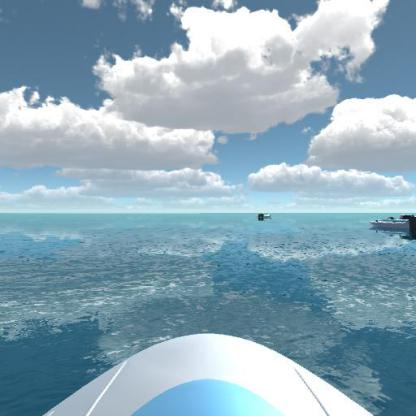usv0: (256, 208, 273, 223)
usv1: (366, 211, 415, 240)
